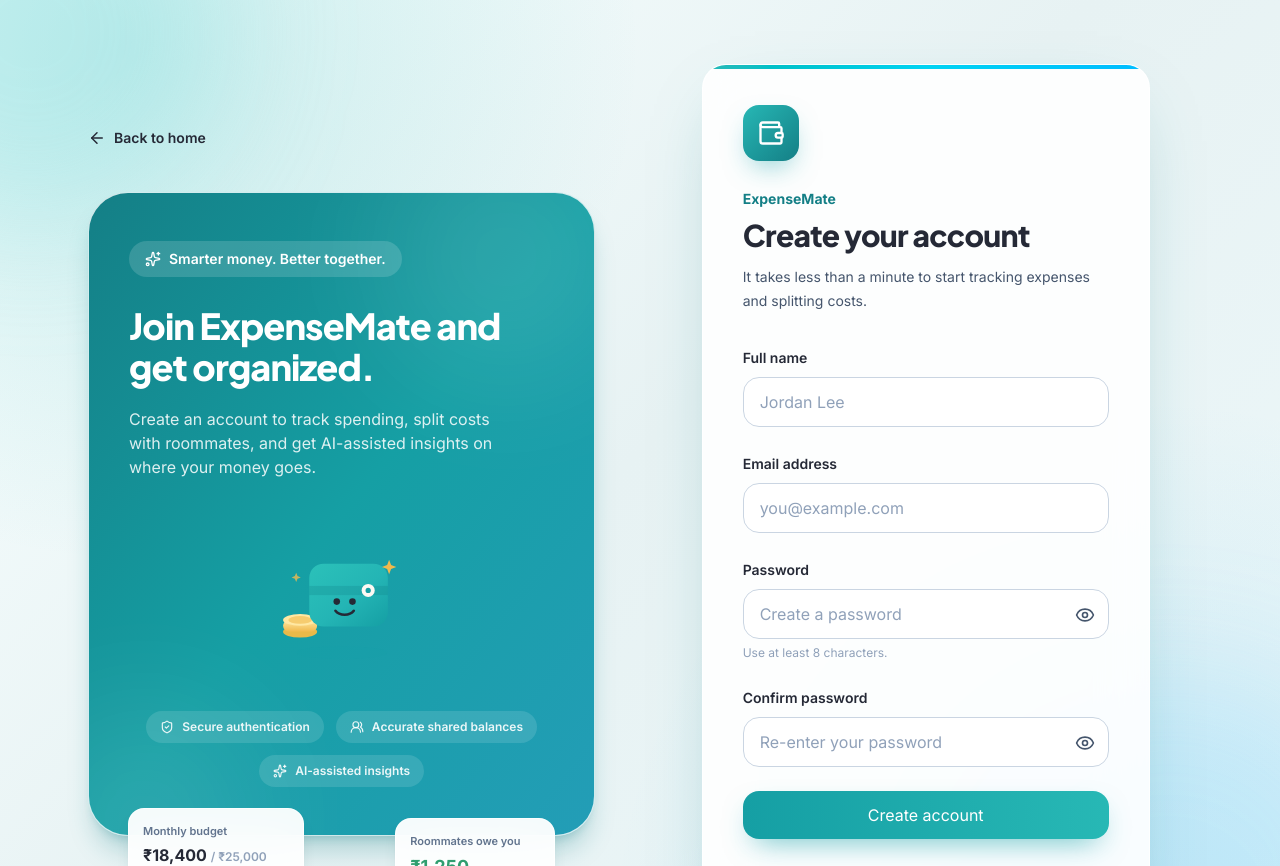
RegisterPage › shows a duplicate-email error
In the field labelled "Full name": [926, 402] box [743,377,1109,427], type "Sreenithi"
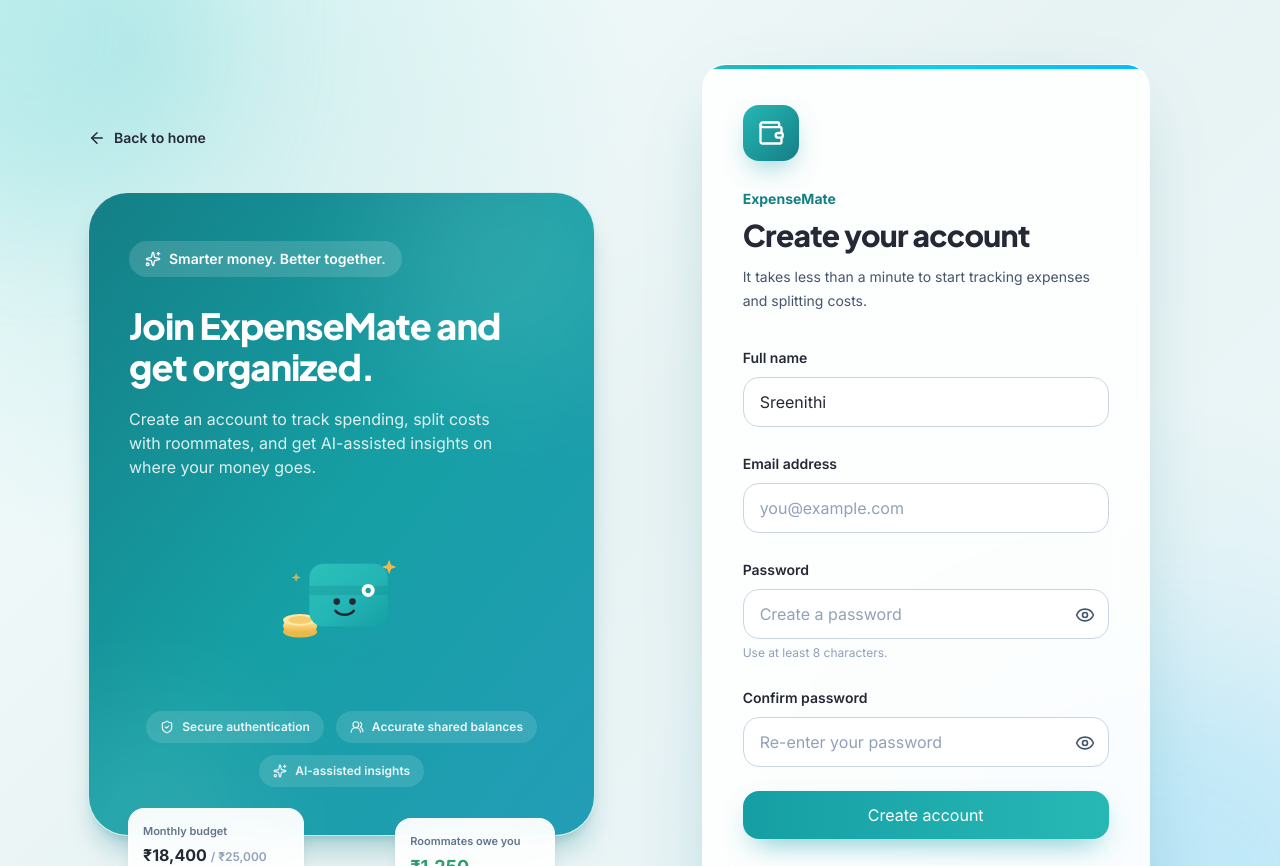
In the field labelled "Email address": [926, 508] box [743,483,1109,533], type "sree@example.com"
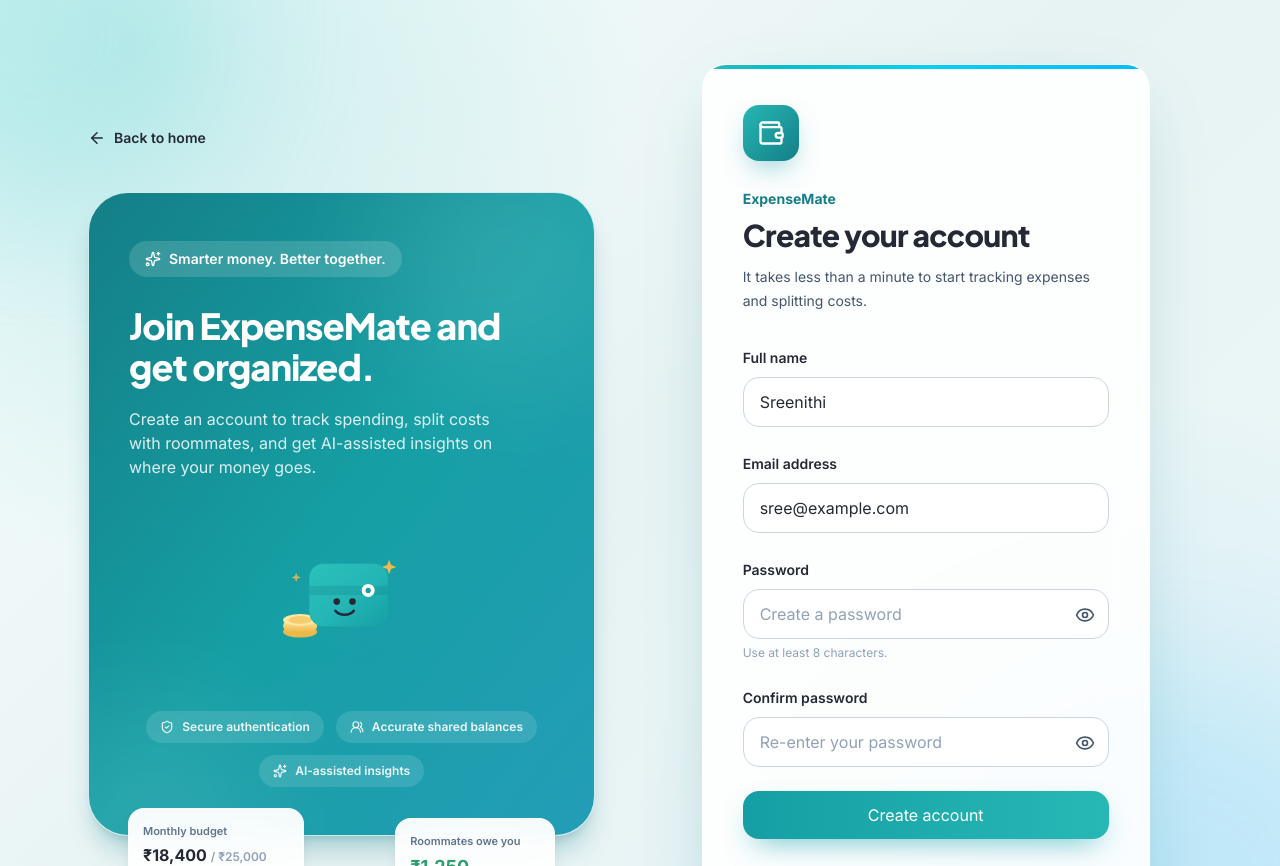
In the password field labelled "Password": [926, 614] box [743,589,1109,639], type "password123"
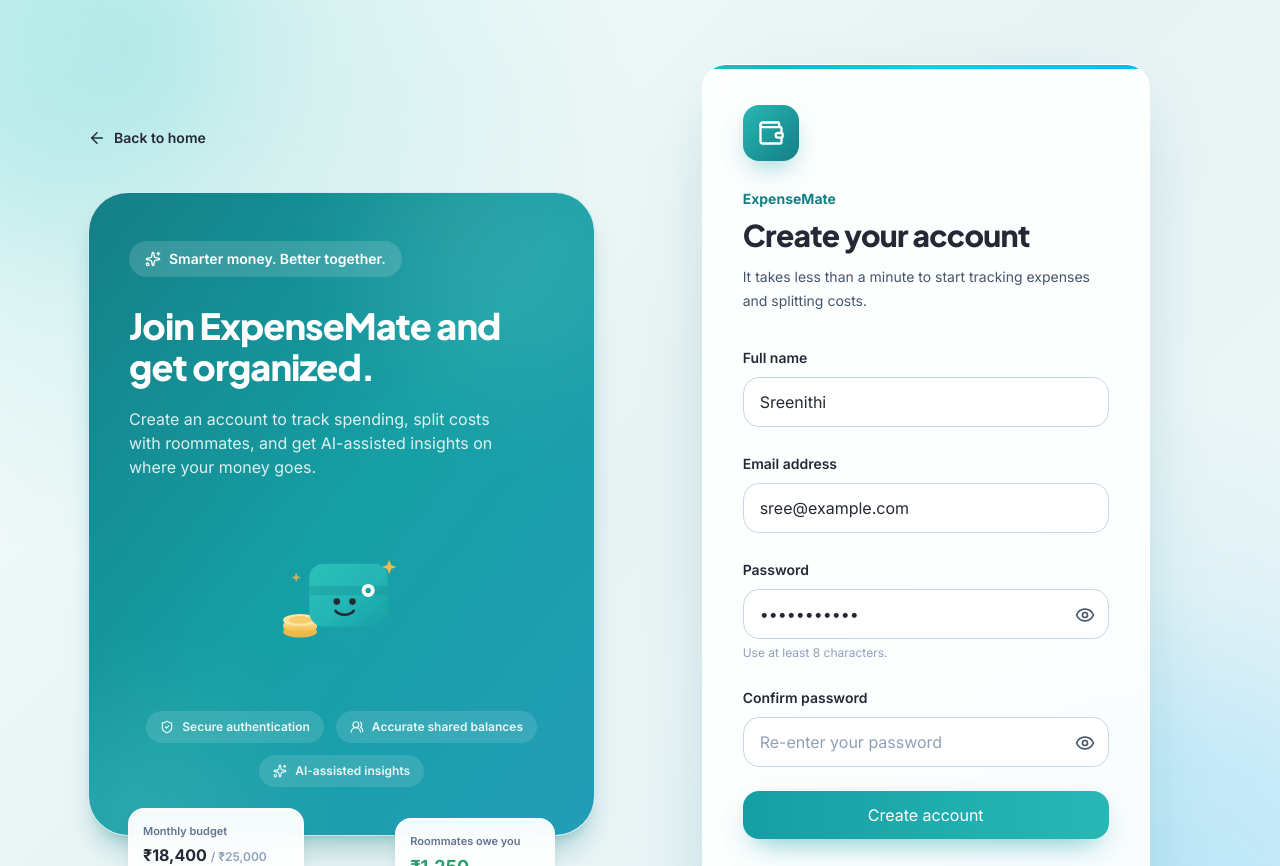
In the password field labelled "Confirm password": [926, 742] box [743,717,1109,767], type "password123"
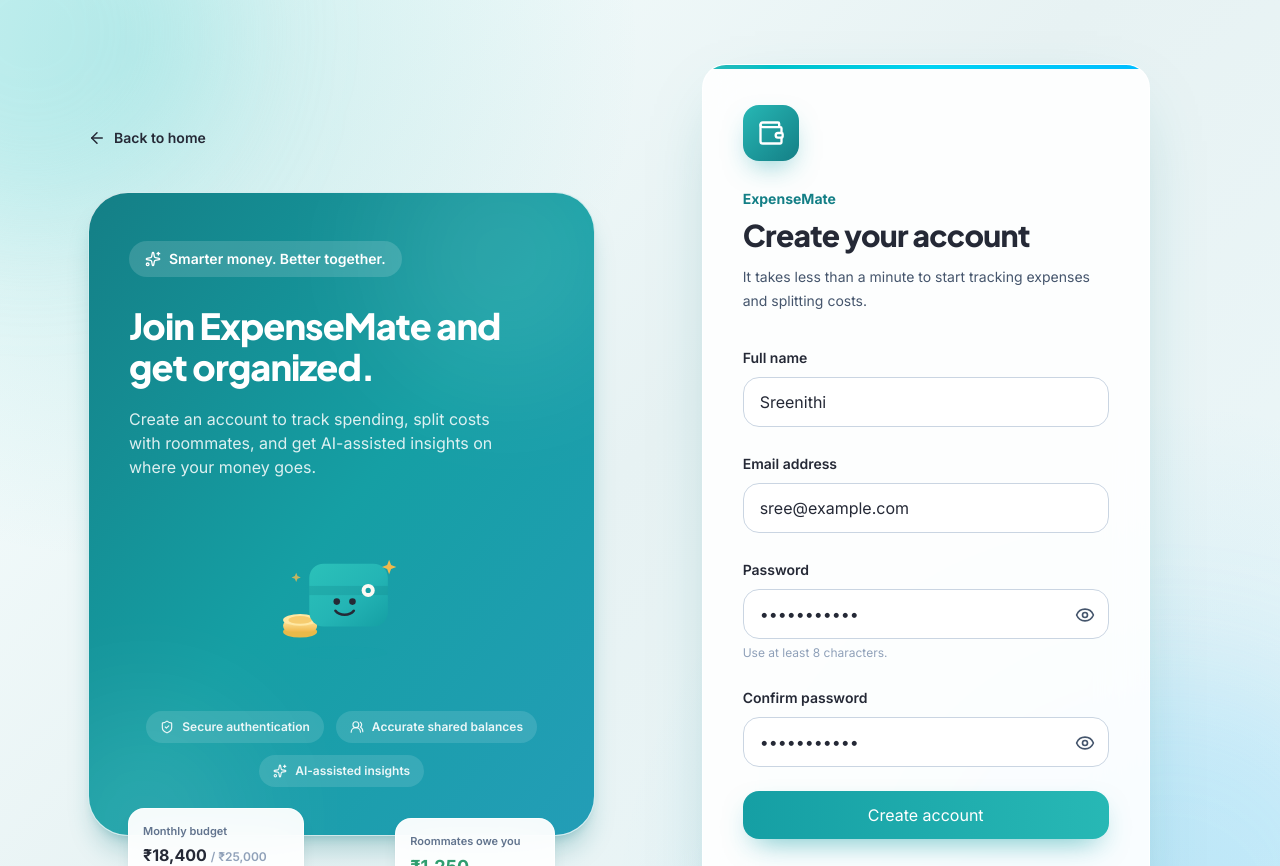
Click the button "Create account": [926, 815] box [743,791,1109,839]
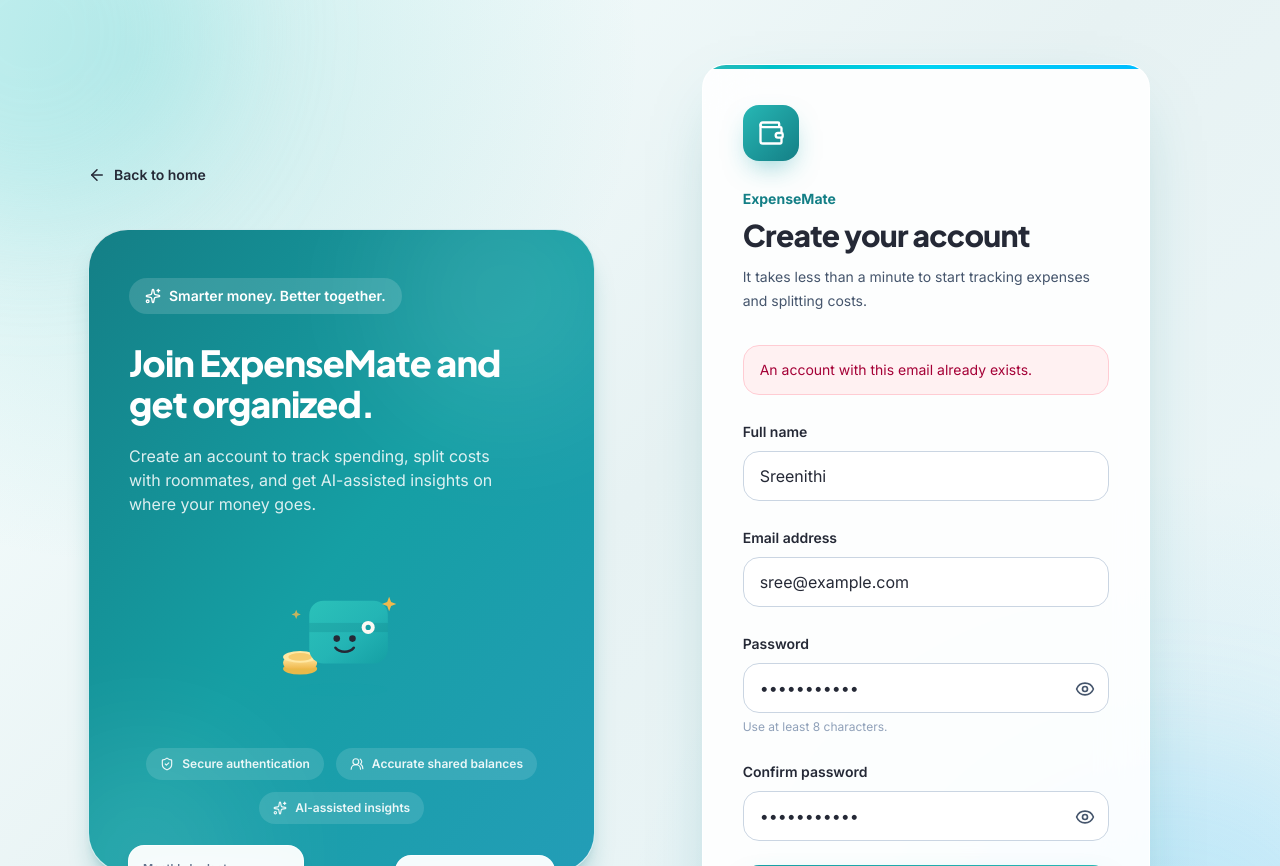
expect the message reads "An account with this email already exists.": met, box [760,361,1032,378]
